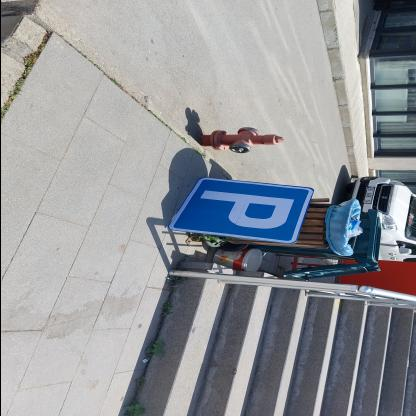Parking-Sign: (169, 179, 315, 245)
